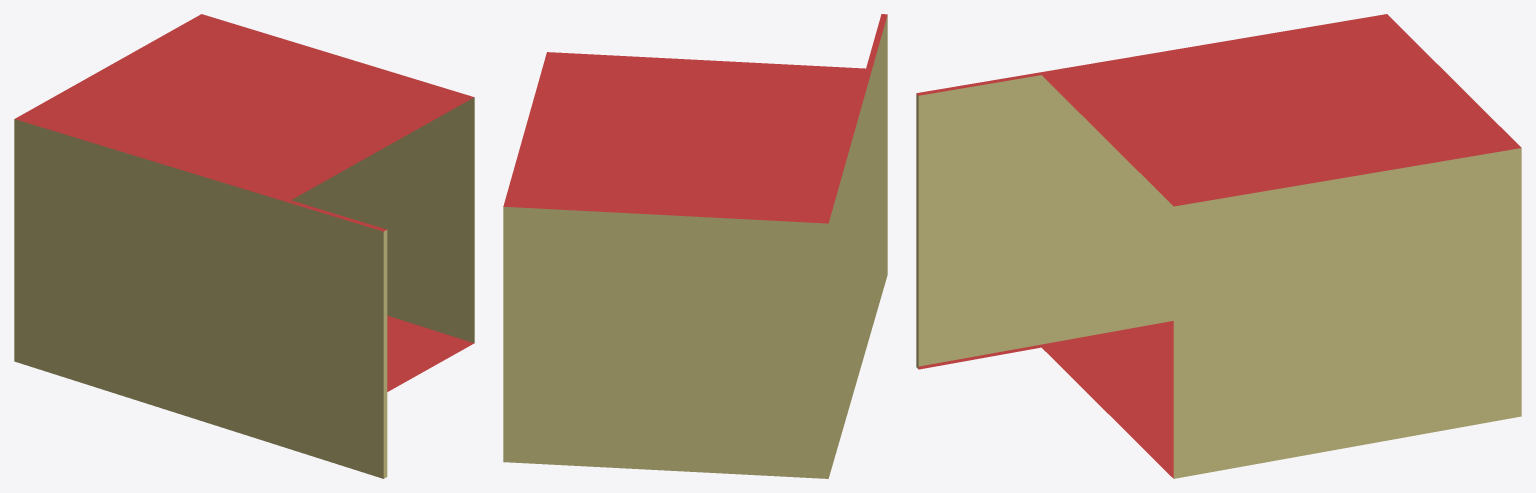
3 views of the same model, side by side, from view 1: azimuth 30°, elevation 25°; view 2: azimuth 150°, elevation 25°; view 3: azimuth 270°, elevation 25° (orthographic). The views are drawn at different scales.
Bounding box in the file's own units: 8.27 × 10.77 × 5.37.
